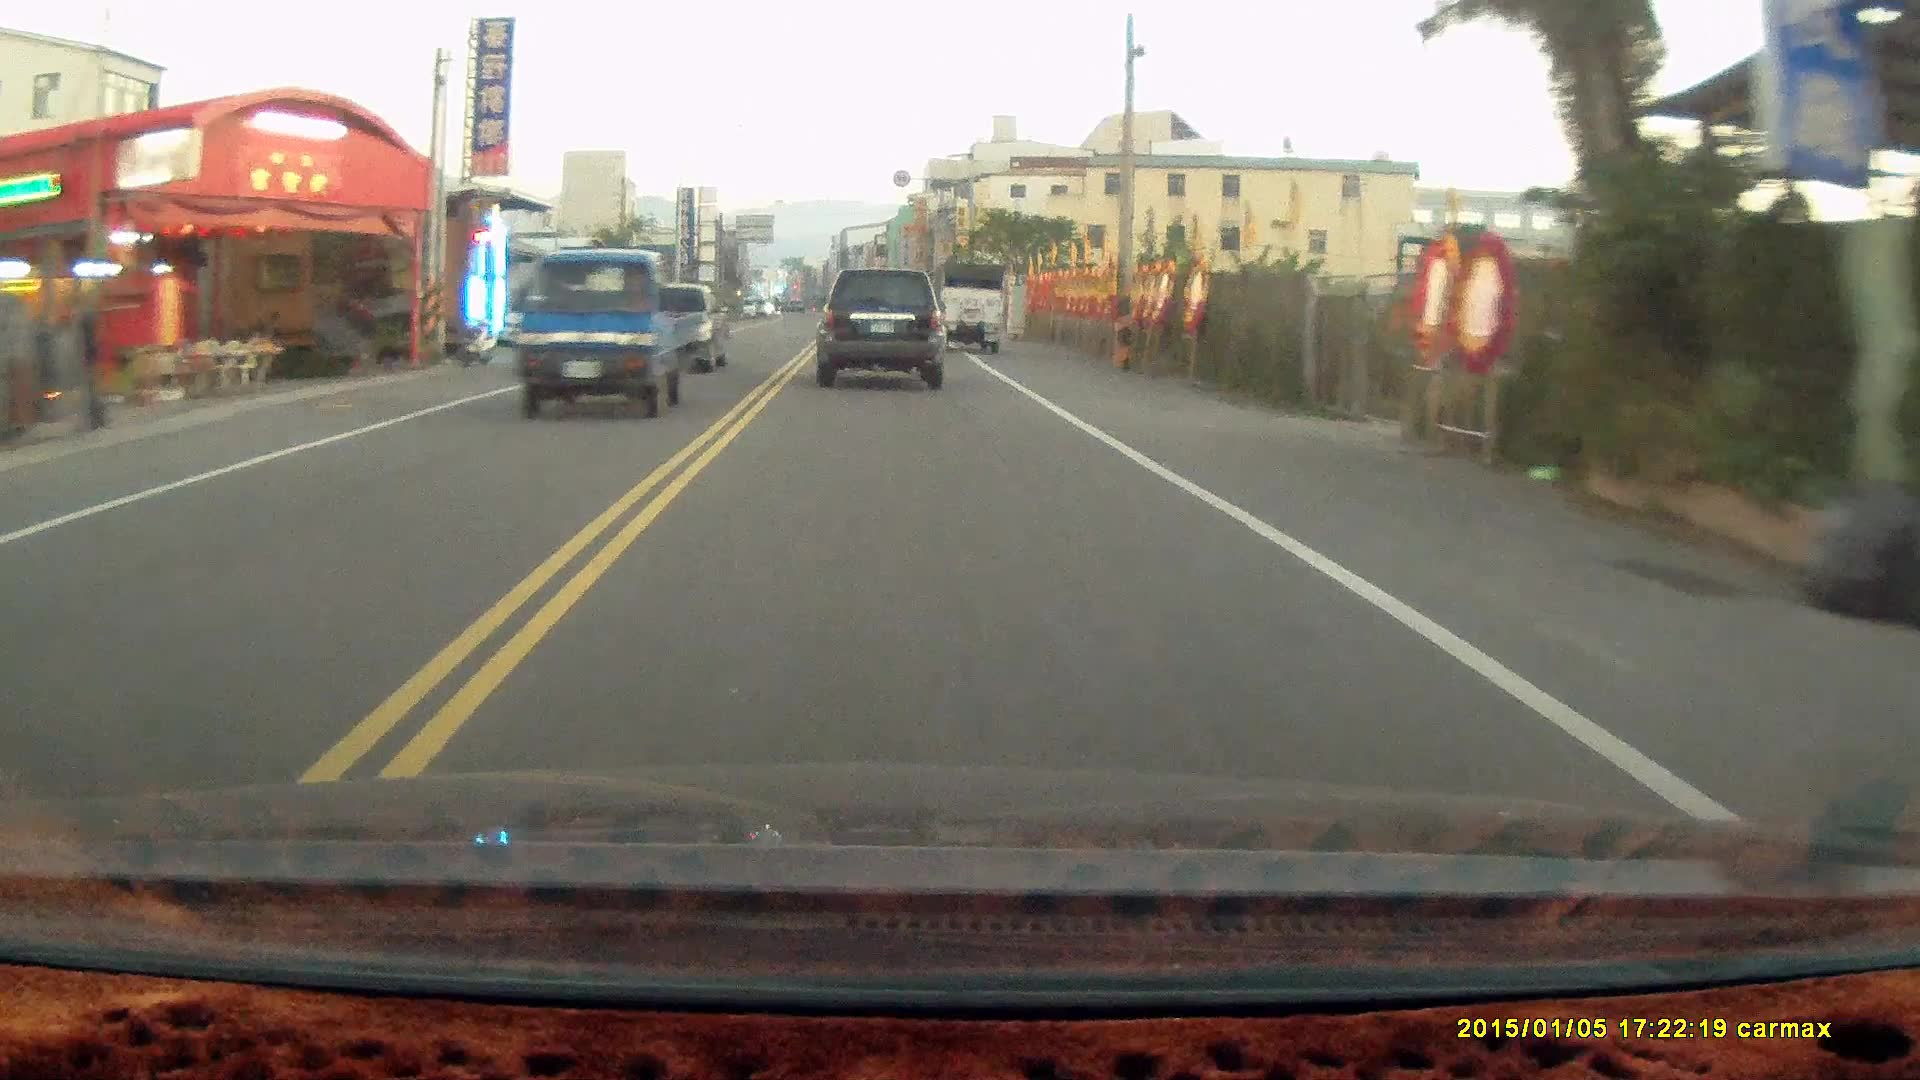vehicle: (509, 255, 712, 417), (818, 265, 953, 393), (938, 262, 1011, 359)
